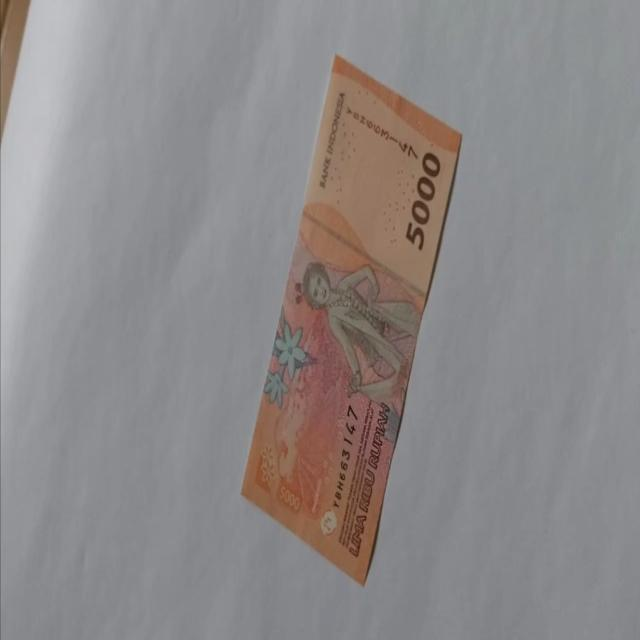lima ribu rupiah: (239, 52, 463, 586)
